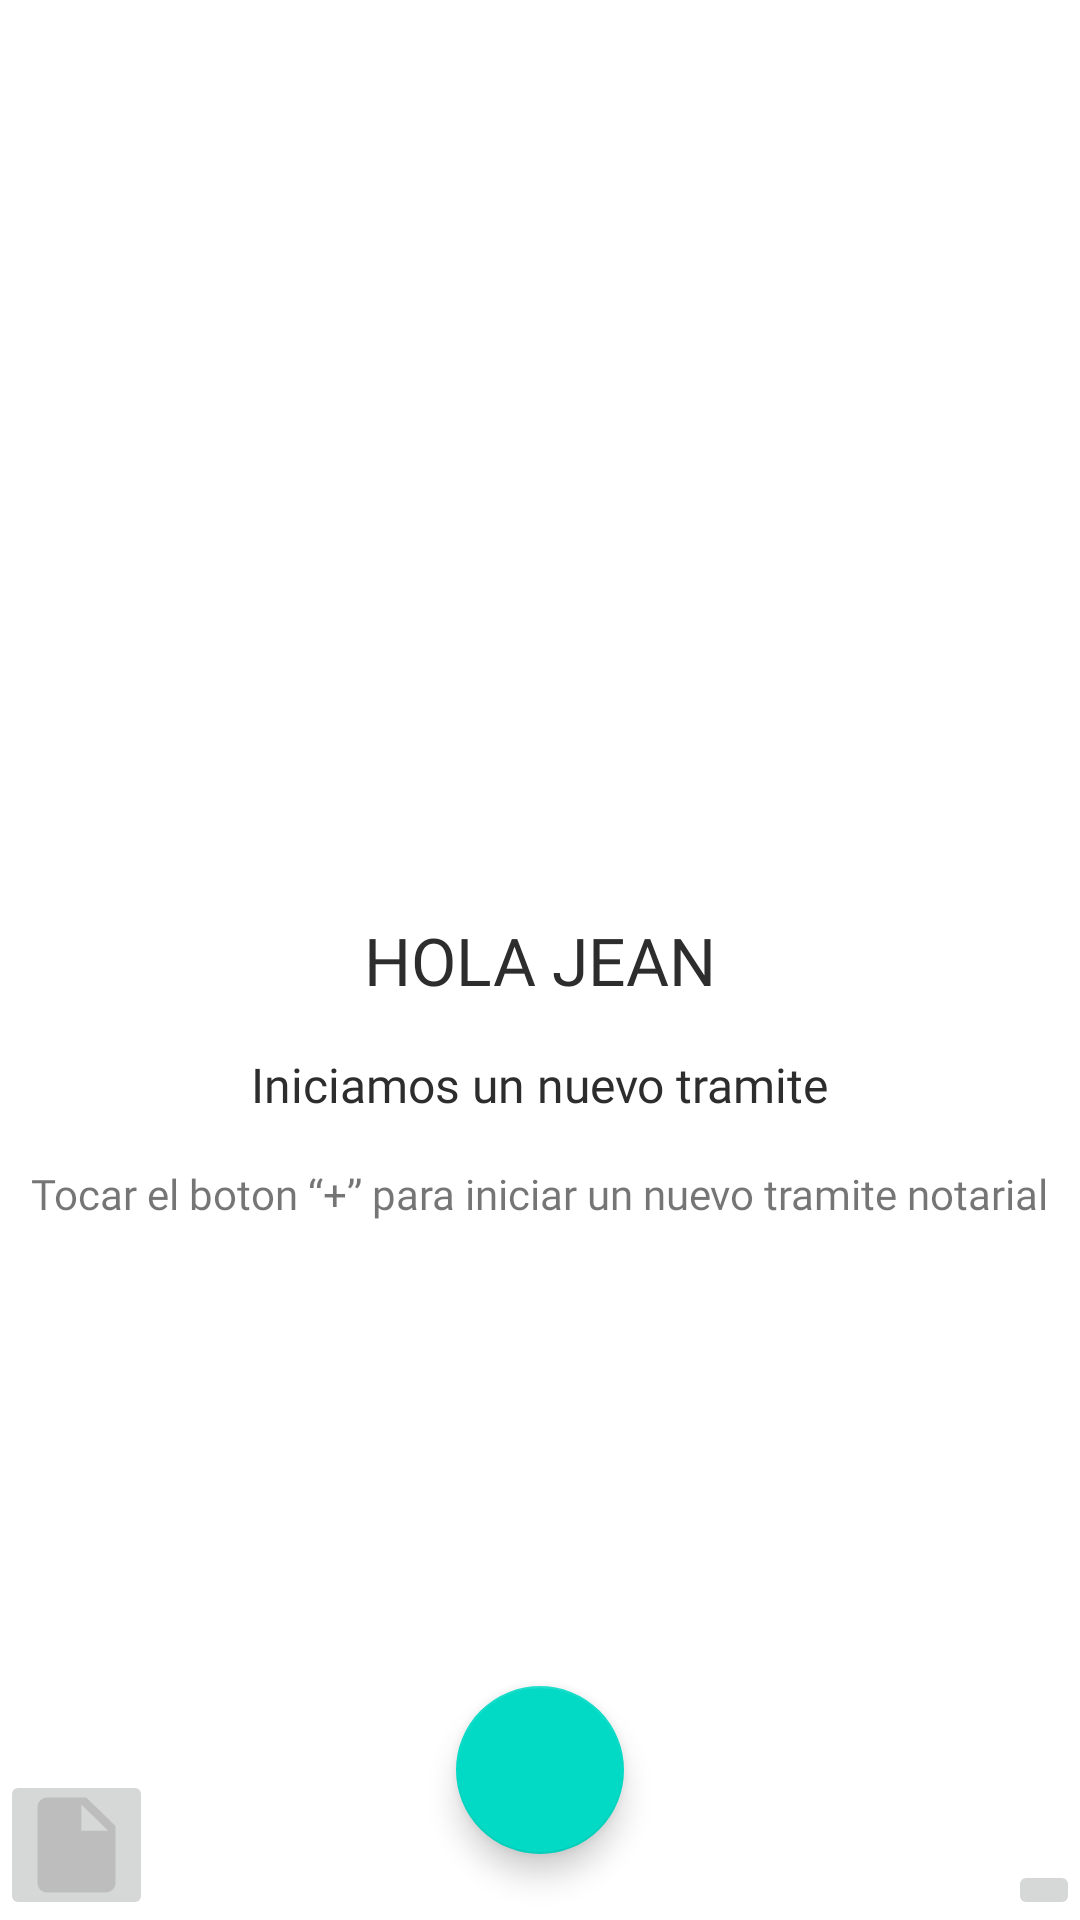

Icons on this 1080x1920 Android screen, each with the point to tap as [x,y]:
doc: [76,1845]
